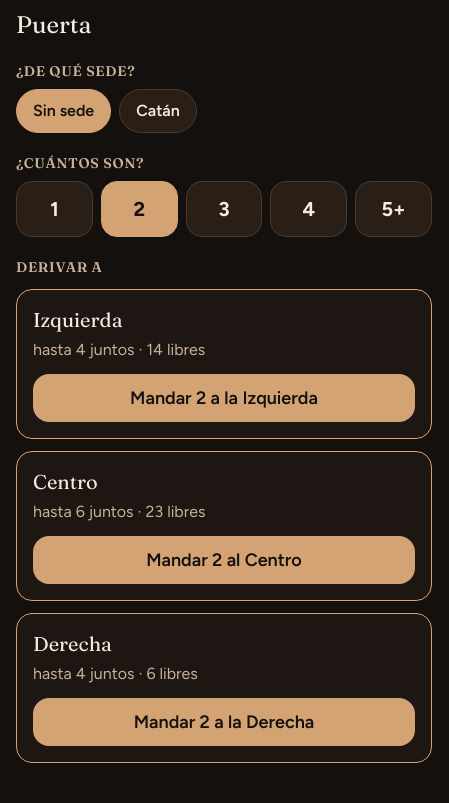
Test: PuertaView › sedes › sectores › con dos sectores en el centro muestra una línea por sector con sus quedan
The width and height of the screenshot is (449, 803).
Click the button "Catán": {"x": 158, "y": 111} x1=119 y1=89 x2=197 y2=133
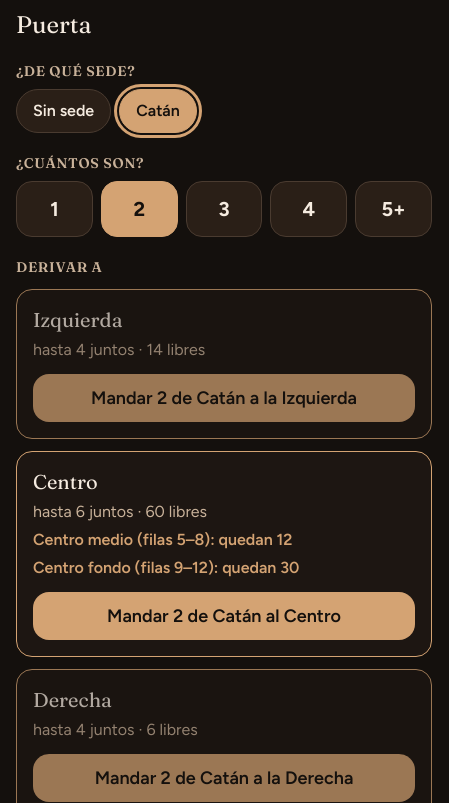
Result: the text "Centro medio (filas 5–8): quedan 12" is shown at x1=33 y1=530 x2=292 y2=549
Result: the text "Centro fondo (filas 9–12): quedan 30" is shown at x1=33 y1=558 x2=299 y2=577
